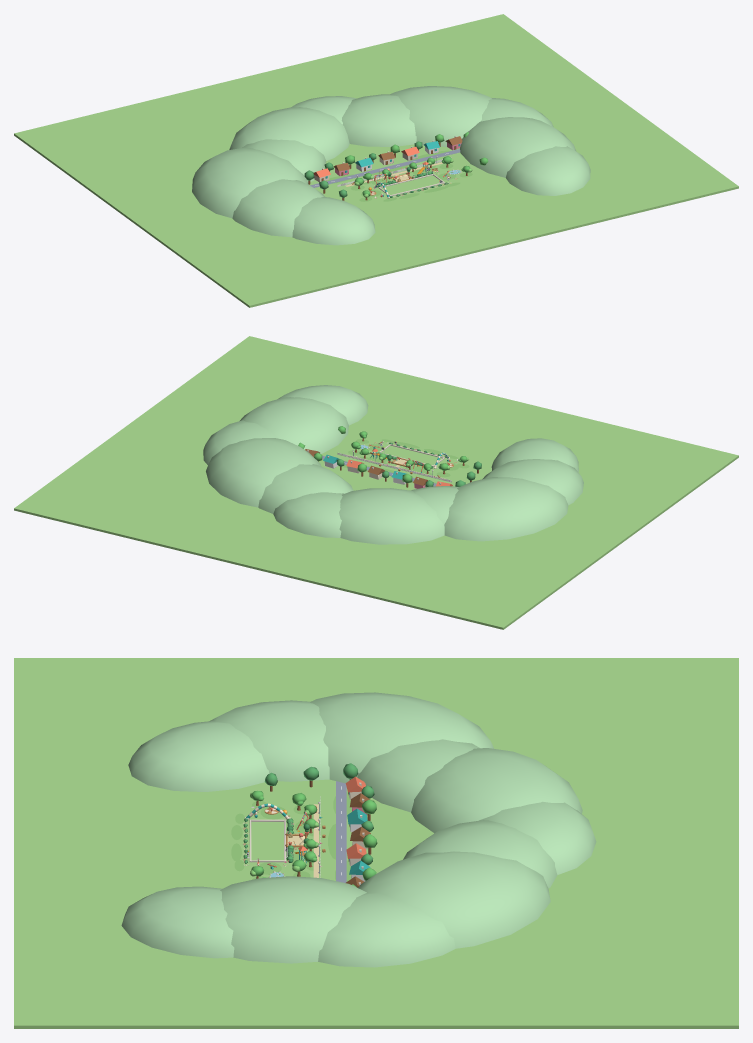
Rendered from frita.glb.
The picture shows the model from 3 angles, top to bottom: view 1: azimuth 30°, elevation 25°; view 2: azimuth 150°, elevation 25°; view 3: azimuth 270°, elevation 25°; orthographic projection. The views are drawn at different scales.
Parts seen in each view (by area): view 1: lawn, hills, street, patches; view 2: lawn, hills, street, patches; view 3: lawn, hills, street, patches.
Part boxes in pixels (x1,y1,x2,y2): lawn: [14, 14, 738, 307]; hills: [192, 86, 590, 245]; street: [304, 132, 488, 200]; patches: [326, 150, 472, 201]; lawn: [14, 336, 738, 629]; hills: [203, 385, 583, 544]; street: [298, 426, 481, 488]; patches: [322, 439, 469, 486]; lawn: [14, 658, 738, 1028]; hills: [121, 692, 596, 967]; street: [263, 763, 377, 887]; patches: [231, 792, 351, 881].
Bounding box in the file's own units: 240 × 12.68 × 200.
